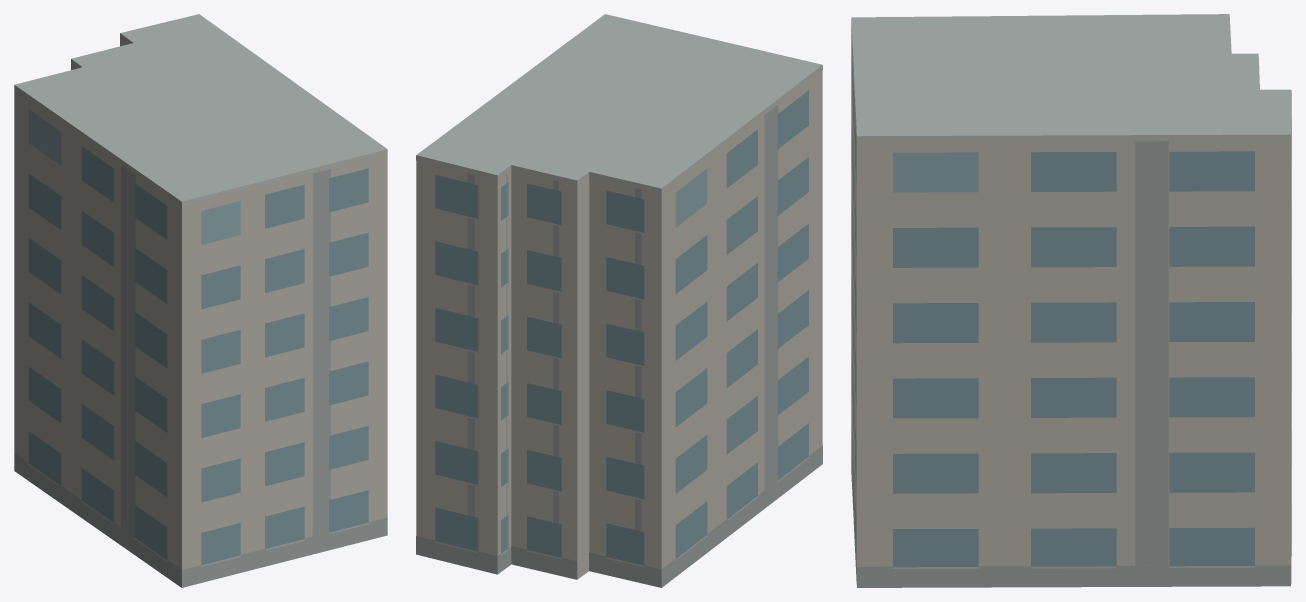
The model's file is survey-upis-32820896.glb.
The picture shows the model from 3 angles, left to right: view 1: azimuth 30°, elevation 25°; view 2: azimuth 150°, elevation 25°; view 3: azimuth 270°, elevation 25°; orthographic projection. The views are drawn at different scales.
Visible parts, largest first — view 1: survey-upis-32820896.tmp; view 2: survey-upis-32820896.tmp; view 3: survey-upis-32820896.tmp.
Part boxes in pixels (x1,y1,x2,y2): survey-upis-32820896.tmp: (14, 14, 387, 587); survey-upis-32820896.tmp: (416, 14, 822, 587); survey-upis-32820896.tmp: (851, 14, 1291, 587).
Size of the model in its own units: 10.45 by 18 by 15.91.
